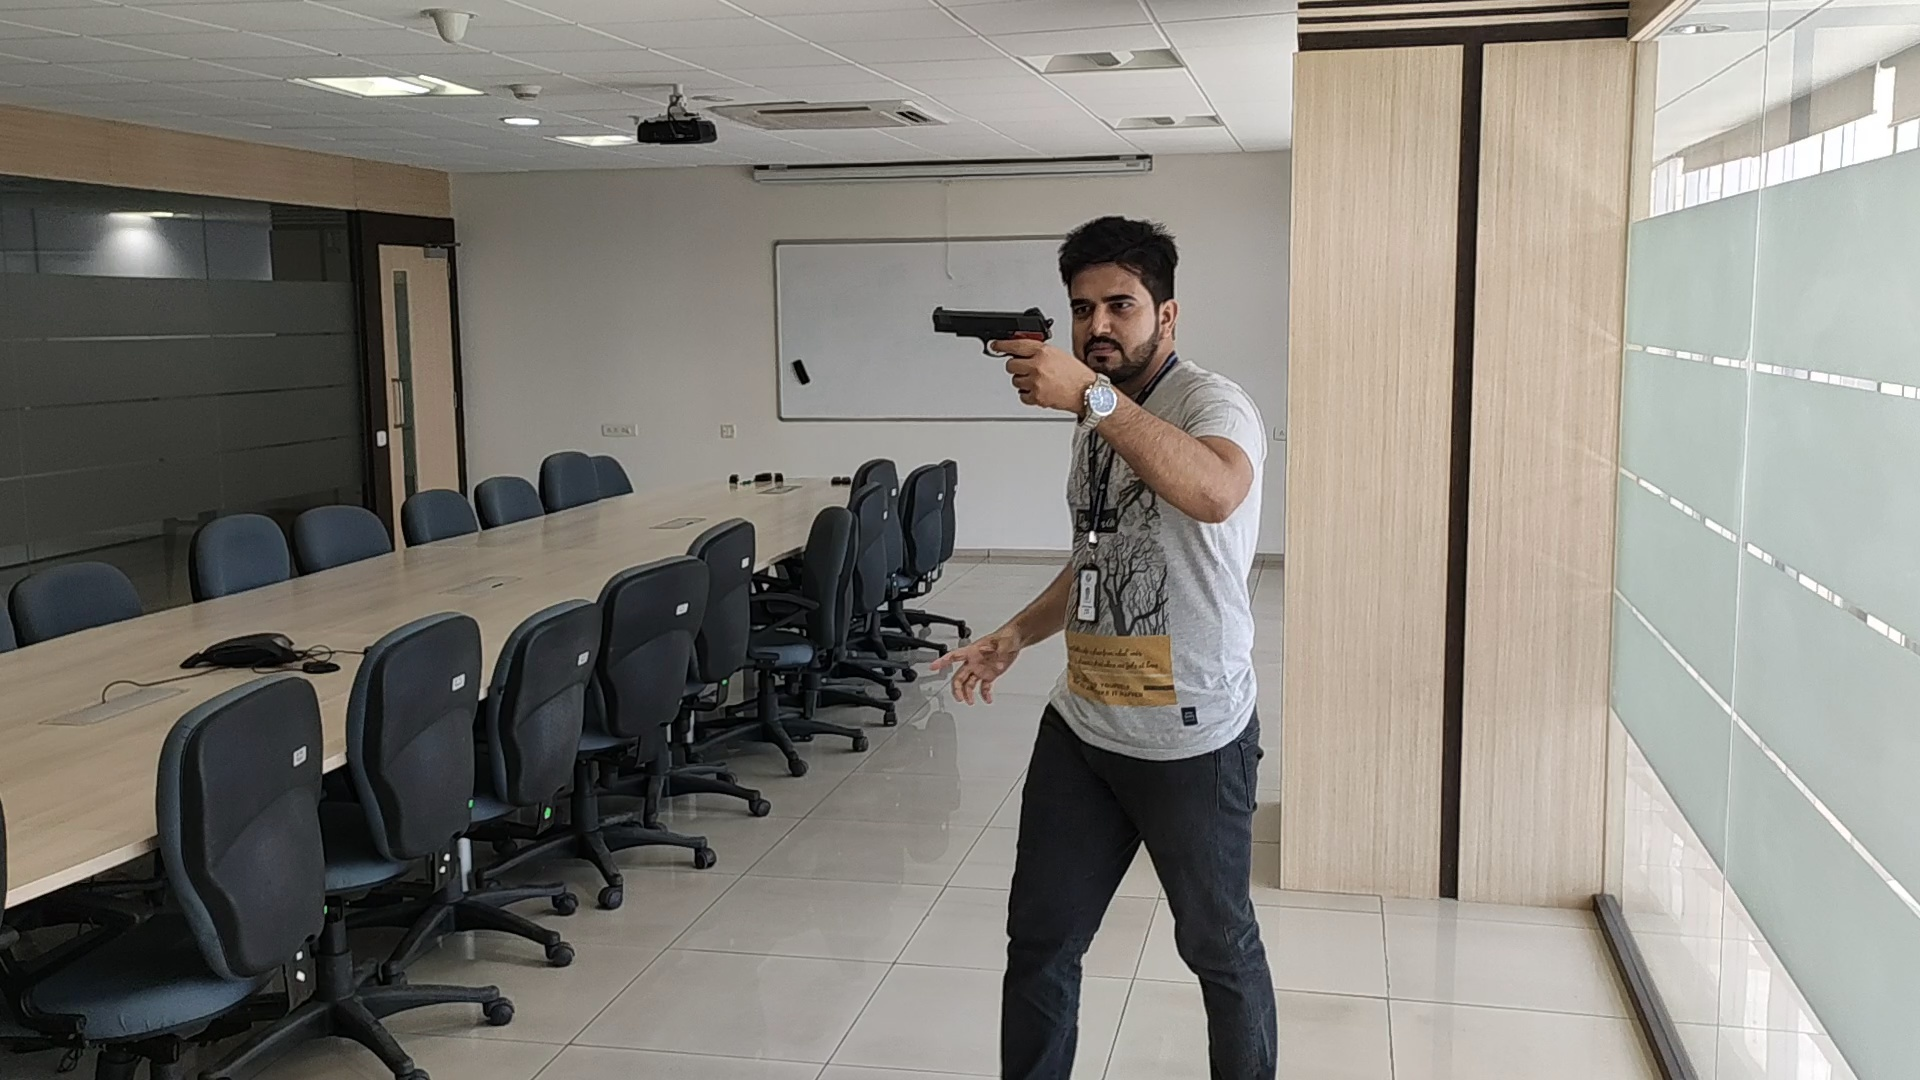gun: (932, 305, 1056, 339)
